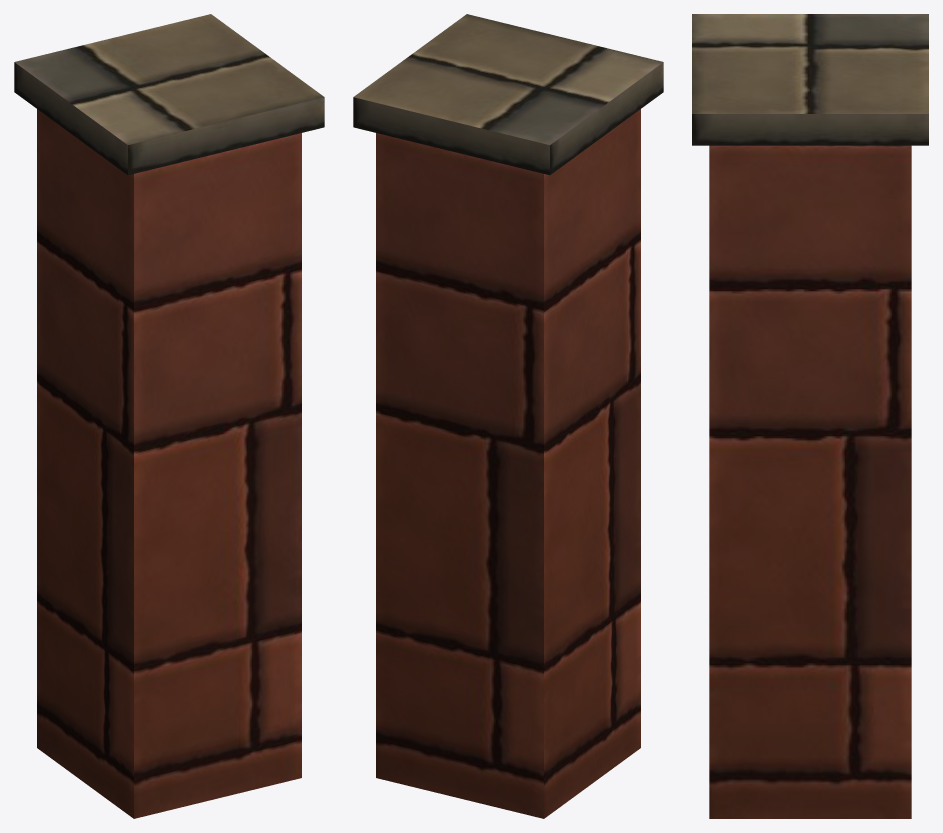
The model's file is chimney.glb.
3 views of the same model, side by side, from view 1: azimuth 30°, elevation 25°; view 2: azimuth 150°, elevation 25°; view 3: azimuth 270°, elevation 25° (orthographic). The views are drawn at different scales.
Visible parts, largest first — view 1: props_0_0; view 2: props_0_0; view 3: props_0_0.
Boxes of the visible parts, <box> form: props_0_0: <box>14,14,324,818</box>; props_0_0: <box>353,14,663,818</box>; props_0_0: <box>692,14,928,818</box>.
Size of the model in its own units: 0.82 by 2.72 by 0.82.
1 material, 1 textured.
